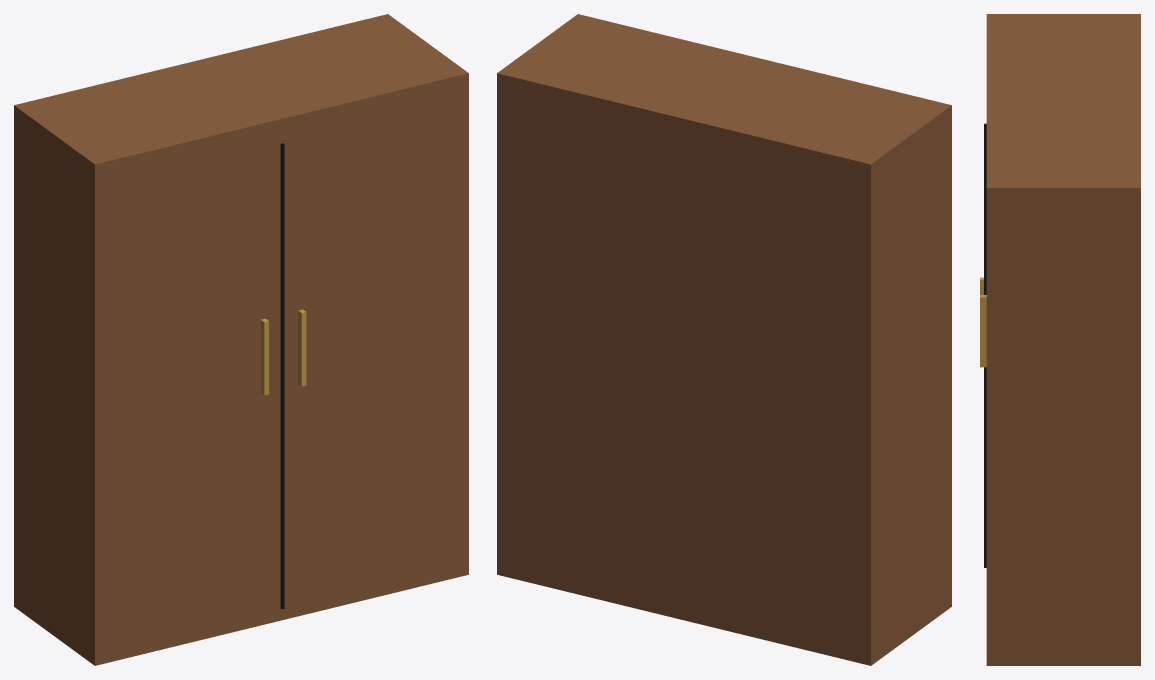
Rendered from wardrobe.glb.
3 renders of one model, left to right at view 1: azimuth 30°, elevation 25°; view 2: azimuth 150°, elevation 25°; view 3: azimuth 270°, elevation 25°, orthographic. The views are drawn at different scales.
Visible parts, largest first — view 1: wardrobe; view 2: wardrobe; view 3: wardrobe.
Part boxes in pixels (x1,y1,x2,y2): wardrobe: (14,14,468,665); wardrobe: (497,14,951,665); wardrobe: (980,14,1140,665).
Bounding box in the file's own units: 1.6 × 2.05 × 0.625.
